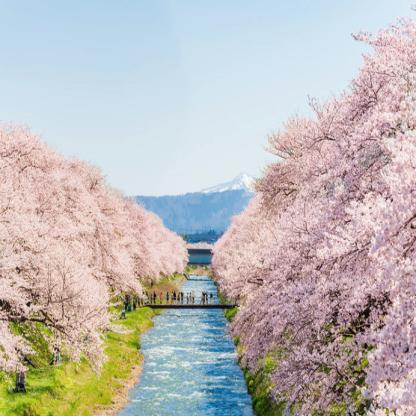Someiyoshino: (206, 11, 414, 414), (1, 122, 187, 372)
